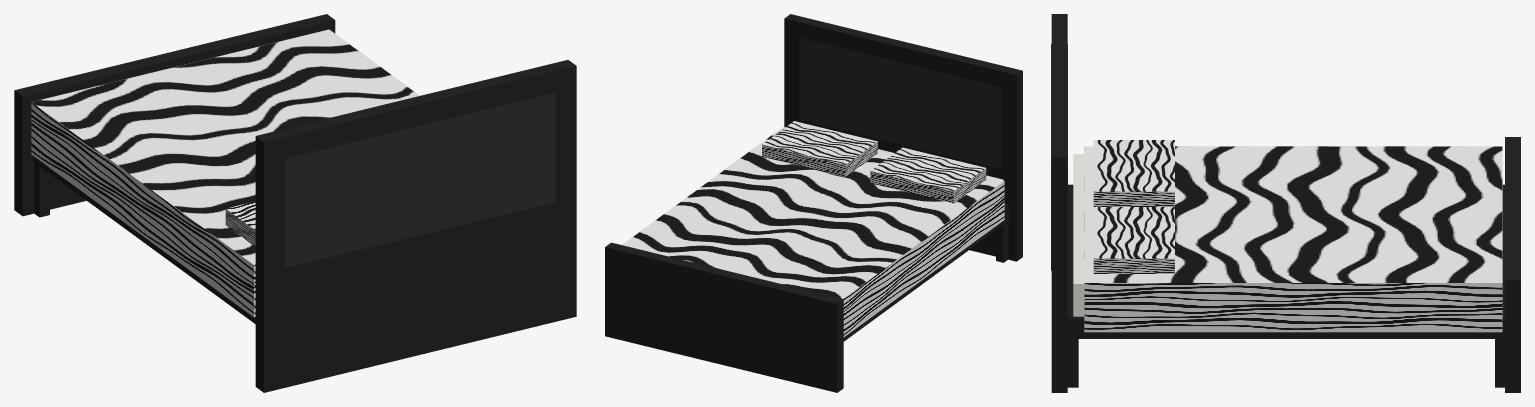
Rendered from bed-zebra.glb.
3 views of the same model, side by side, from view 1: azimuth 30°, elevation 25°; view 2: azimuth 150°, elevation 25°; view 3: azimuth 270°, elevation 25° (orthographic). The views are drawn at different scales.
Visible parts, largest first — view 1: bed-zebra; view 2: bed-zebra; view 3: bed-zebra.
Part boxes in pixels (x1,y1,x2,y2): bed-zebra: [14, 14, 576, 392]; bed-zebra: [605, 14, 1022, 392]; bed-zebra: [1051, 14, 1520, 392].
Size of the model in its own units: 1.5 by 1.15 by 2.08.
4 materials, 1 textured.
